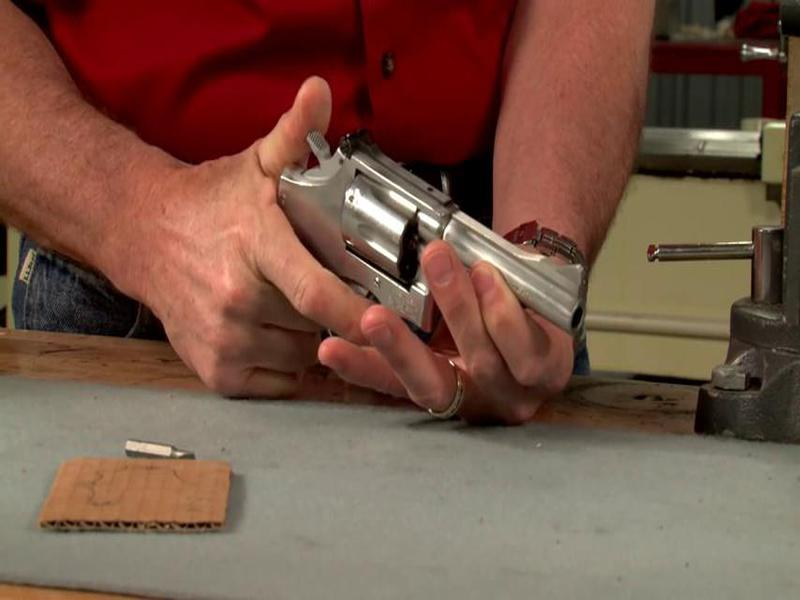Revolver: (204, 109, 634, 403)
